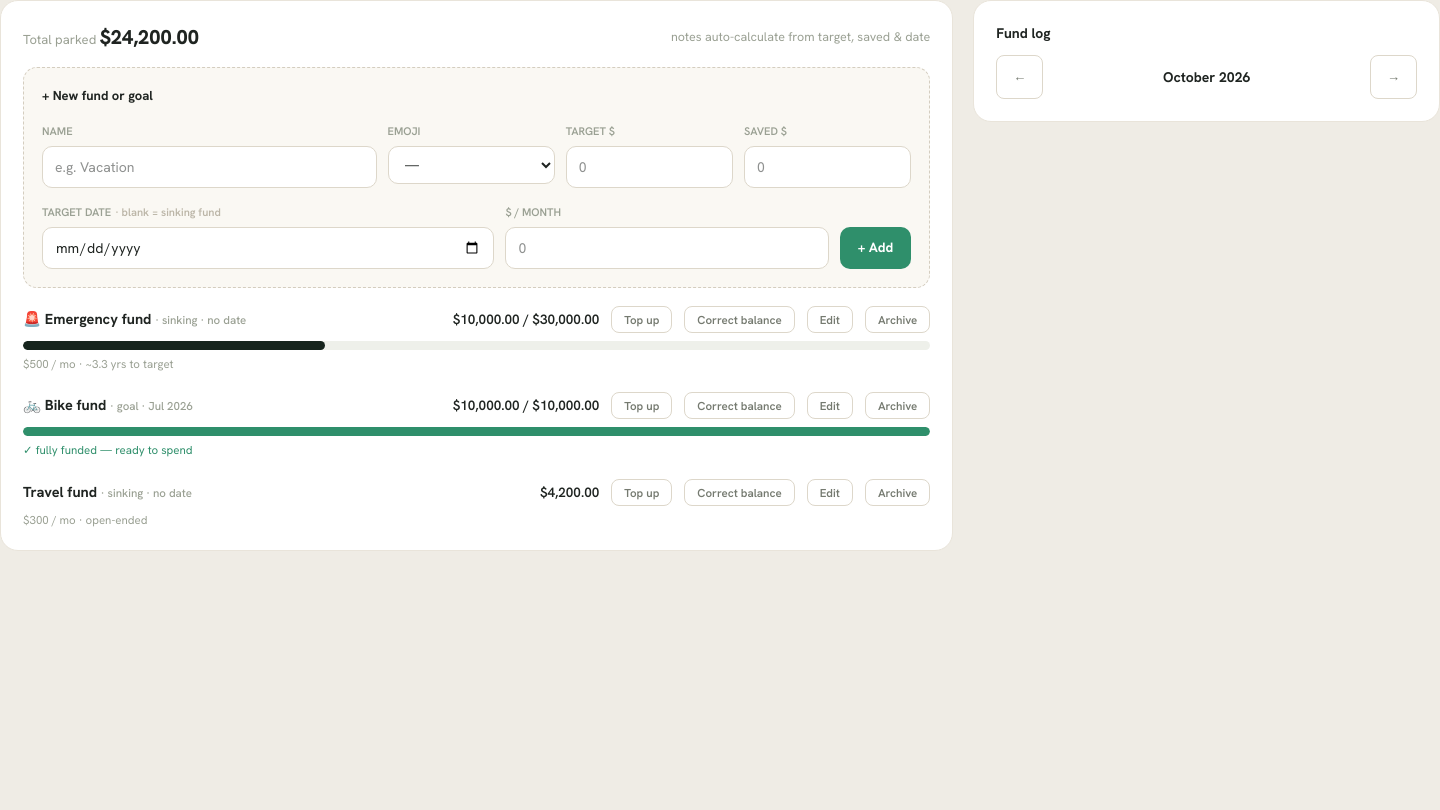
Scenario: editing a fund plan › reveals the $ / month input prefilled with the current plan
The width and height of the screenshot is (1440, 810).
Click the button "Edit" in the row of "$10,000.00 / $30,000.00". click: coordinates (830, 319)
box: top-left (807, 306), bottom-right (853, 333)
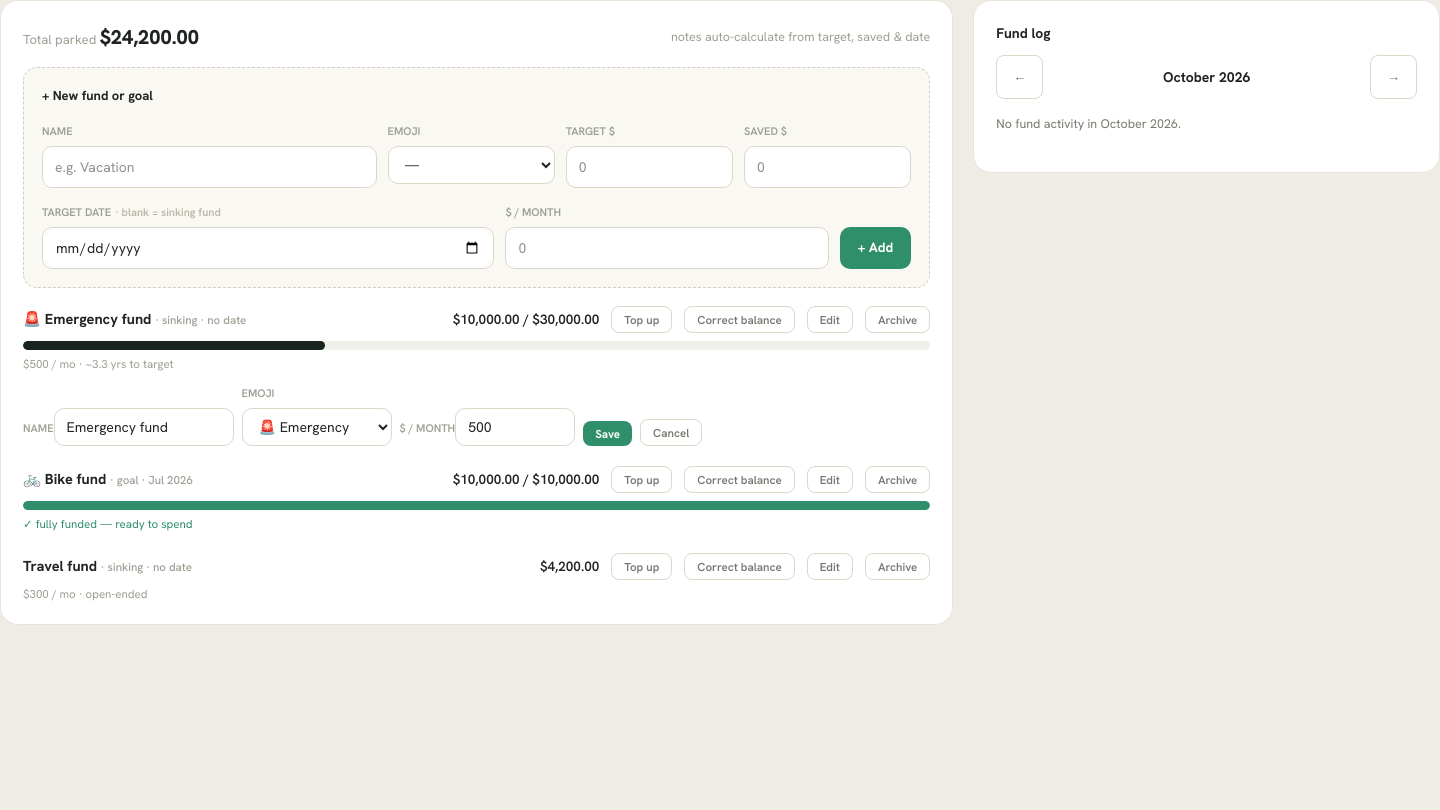
Expected: the field labelled "$ / month" below "$10,000.00 / $30,000.00" holds "500", top-left (455, 408), bottom-right (575, 446)
